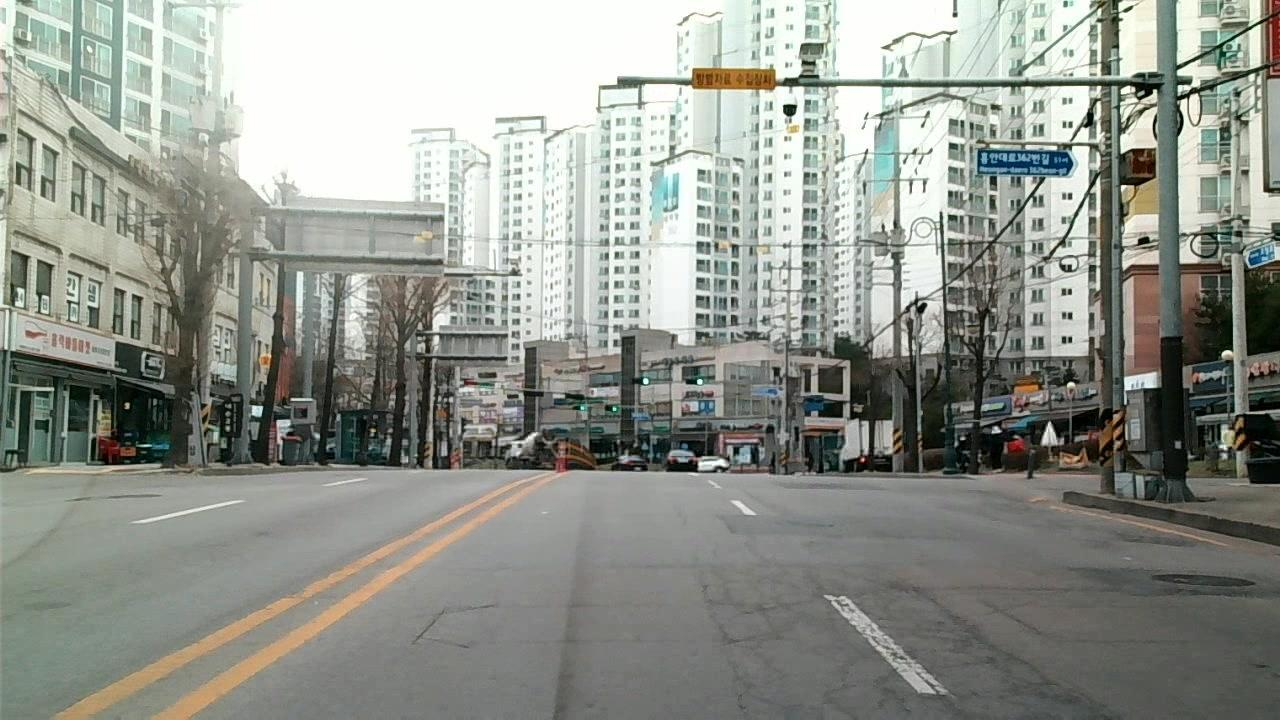banner: (703, 578, 1057, 720)
